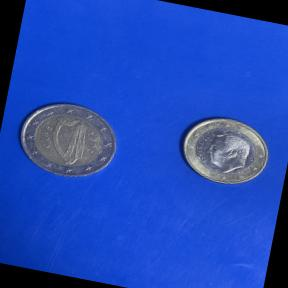coin: (2, 89, 129, 191), (166, 105, 280, 197)
